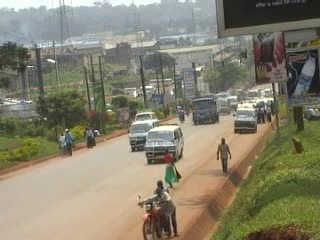Motorcycle: (134, 191, 183, 235), (175, 105, 187, 123)
